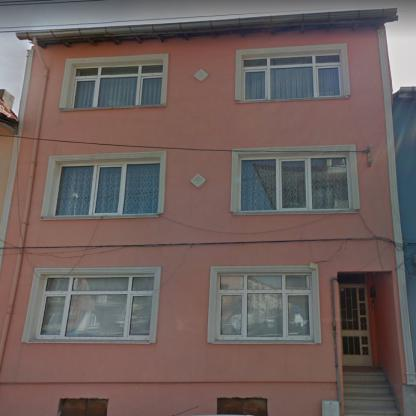door: (338, 276, 371, 364)
window: (38, 276, 154, 337), (239, 156, 350, 212), (217, 274, 311, 338), (55, 161, 161, 216), (242, 53, 342, 100), (72, 64, 164, 109)
